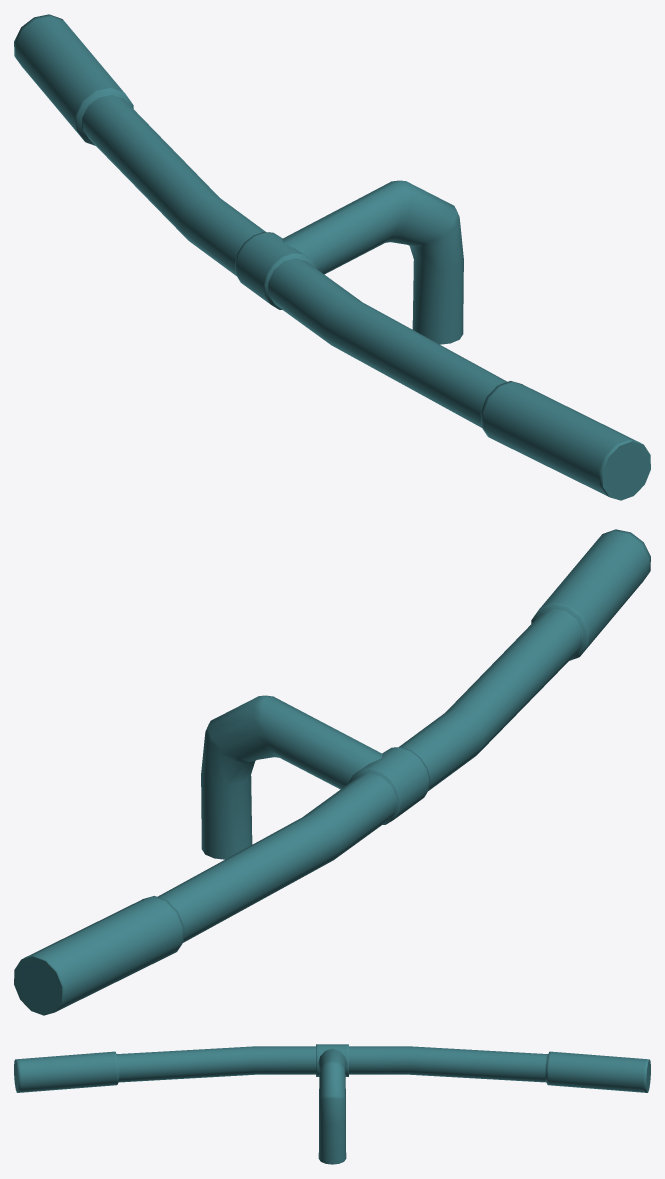
The model's file is straightbarTeal.gltf.
3 views of the same model, one above another, from view 1: azimuth 30°, elevation 25°; view 2: azimuth 150°, elevation 25°; view 3: azimuth 270°, elevation 25° (orthographic). The views are drawn at different scales.
Parts seen in each view (by area): view 1: HANDLEBAR; view 2: HANDLEBAR; view 3: HANDLEBAR.
Boxes of the visible parts, <box> form: HANDLEBAR: <box>14,14,650,500</box>; HANDLEBAR: <box>14,529,650,1015</box>; HANDLEBAR: <box>14,1044,650,1164</box>.
Bounding box in the file's own units: 0.3019 × 0.222 × 1.46.
